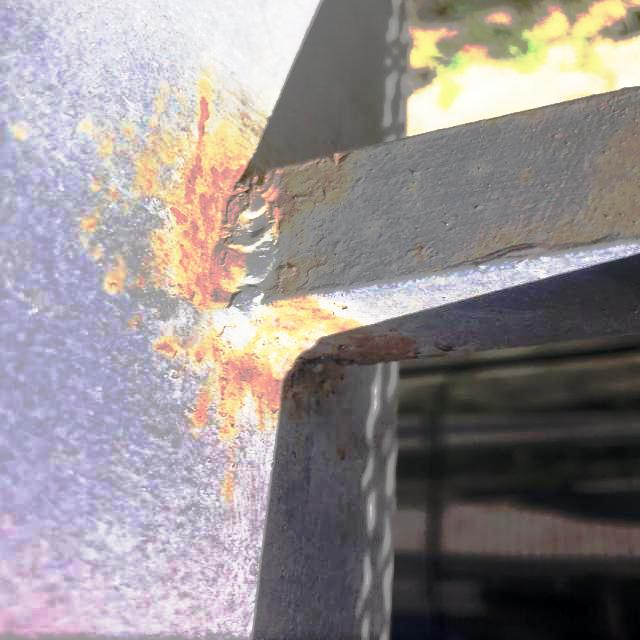Corrosion: (205, 298, 410, 425), (163, 94, 260, 309), (154, 338, 176, 357)
